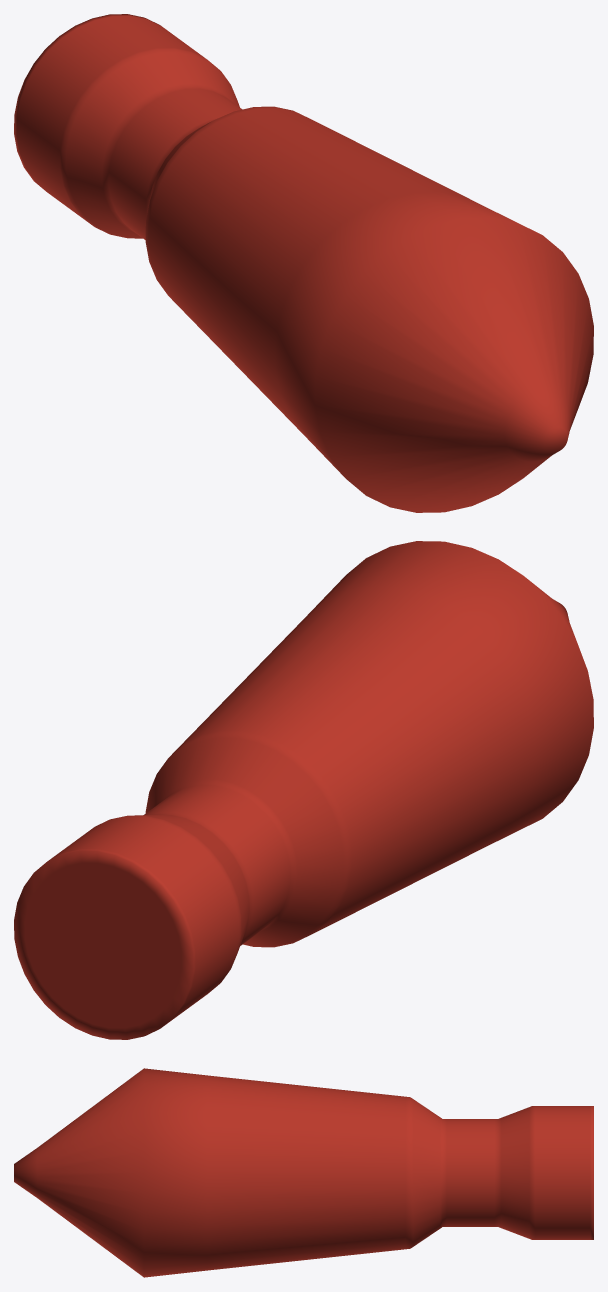
Rendered from missile.fbx.
3 views of the same model, one above another, from view 1: azimuth 30°, elevation 25°; view 2: azimuth 150°, elevation 25°; view 3: azimuth 270°, elevation 25° (orthographic). The views are drawn at different scales.
Parts seen in each view (by area): view 1: missile; view 2: missile; view 3: missile.
Boxes of the visible parts, x1,y1,x2,y2 form: missile: (14, 14, 593, 512); missile: (14, 541, 593, 1039); missile: (14, 1068, 593, 1277).
Size of the model in its own units: 31.31 by 31.08 by 88.01.
